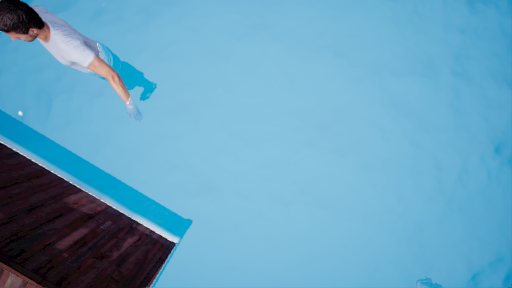person: (1, 1, 167, 128)
